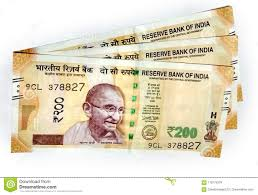twoHundred: (25, 79, 202, 143)
